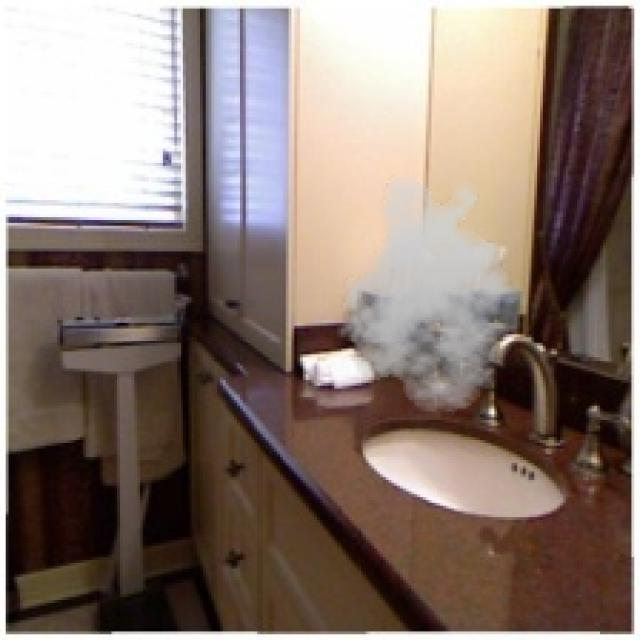smoke: (332, 172, 532, 414)
